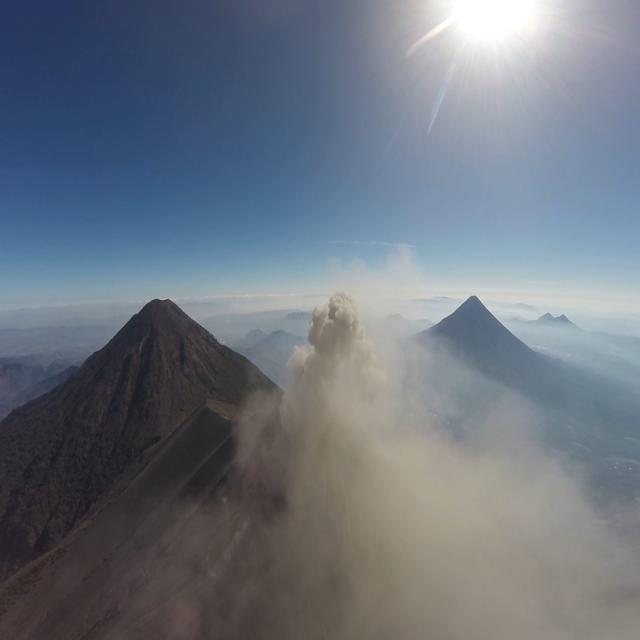Plume: (244, 283, 630, 639)
